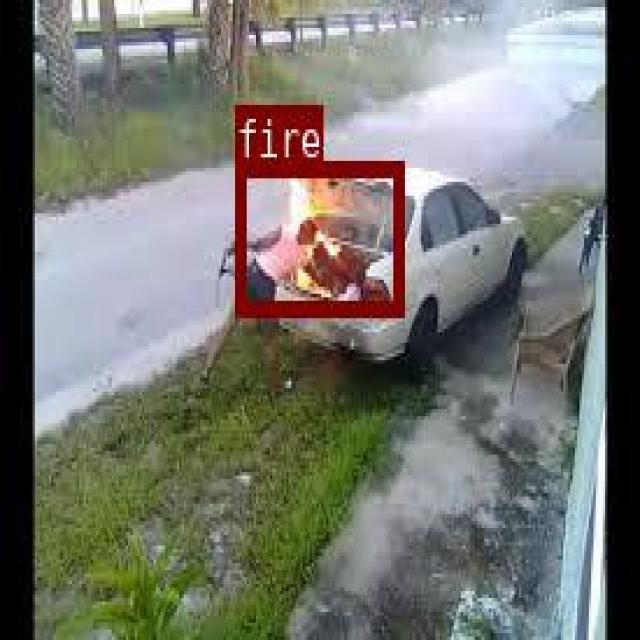fire: (235, 158, 402, 313)
